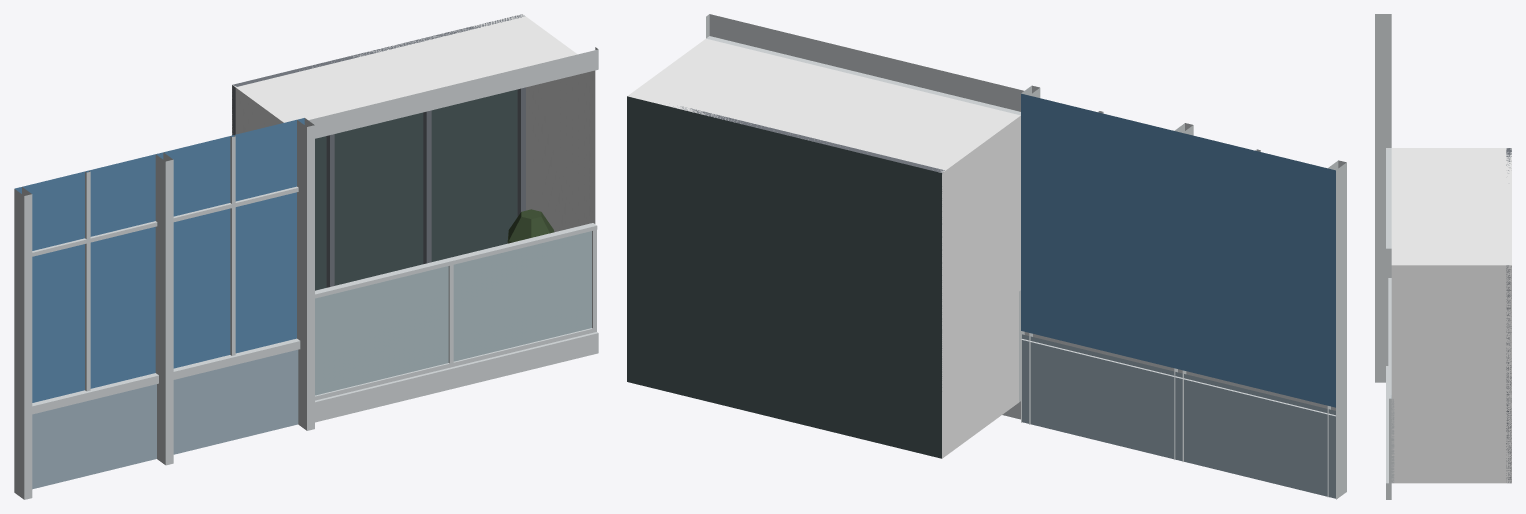
File: mid-w1_close.fbx
3 views of the same model, side by side, from view 1: azimuth 30°, elevation 25°; view 2: azimuth 150°, elevation 25°; view 3: azimuth 270°, elevation 25° (orthographic). The views are drawn at different scales.
Parts seen in each view (by area): view 1: a2007/750/mid-w1_close; view 2: a2007/750/mid-w1_close; view 3: a2007/750/mid-w1_close.
Part boxes in pixels (left/top/right/bottom): a2007/750/mid-w1_close: left=14, top=14, right=598, bottom=499; a2007/750/mid-w1_close: left=627, top=14, right=1346, bottom=499; a2007/750/mid-w1_close: left=1375, top=14, right=1511, bottom=499.
Bounding box in the file's own units: 6 × 3 × 1.48.
